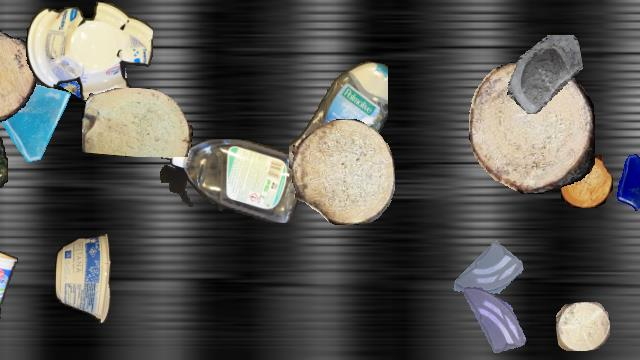glass: (36, 30, 130, 124), (0, 75, 80, 165), (505, 35, 583, 113), (456, 285, 530, 359), (451, 238, 523, 310), (611, 151, 640, 211)
plastic: (289, 57, 387, 191), (26, 1, 152, 101), (160, 139, 306, 223), (55, 234, 111, 322), (0, 236, 19, 318), (0, 126, 7, 218)
wood: (469, 61, 595, 193), (292, 119, 394, 225), (82, 88, 192, 156), (0, 25, 36, 123), (560, 155, 612, 207), (556, 302, 610, 350), (0, 279, 1, 359)
